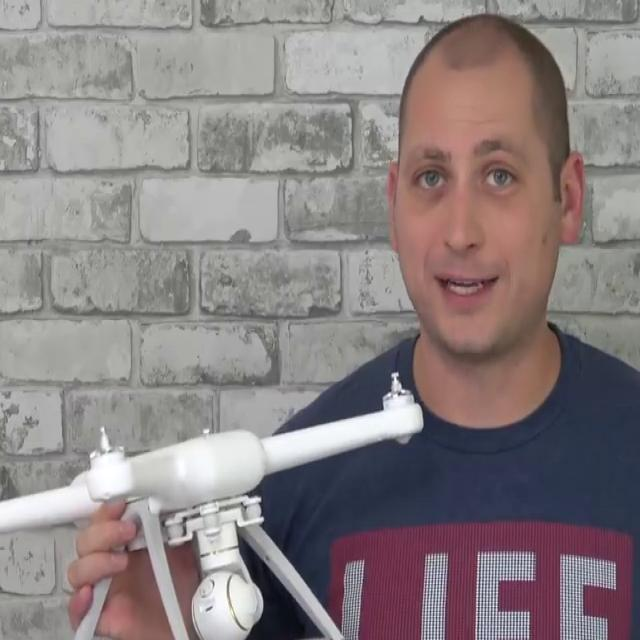drone: (0, 370, 427, 565)
